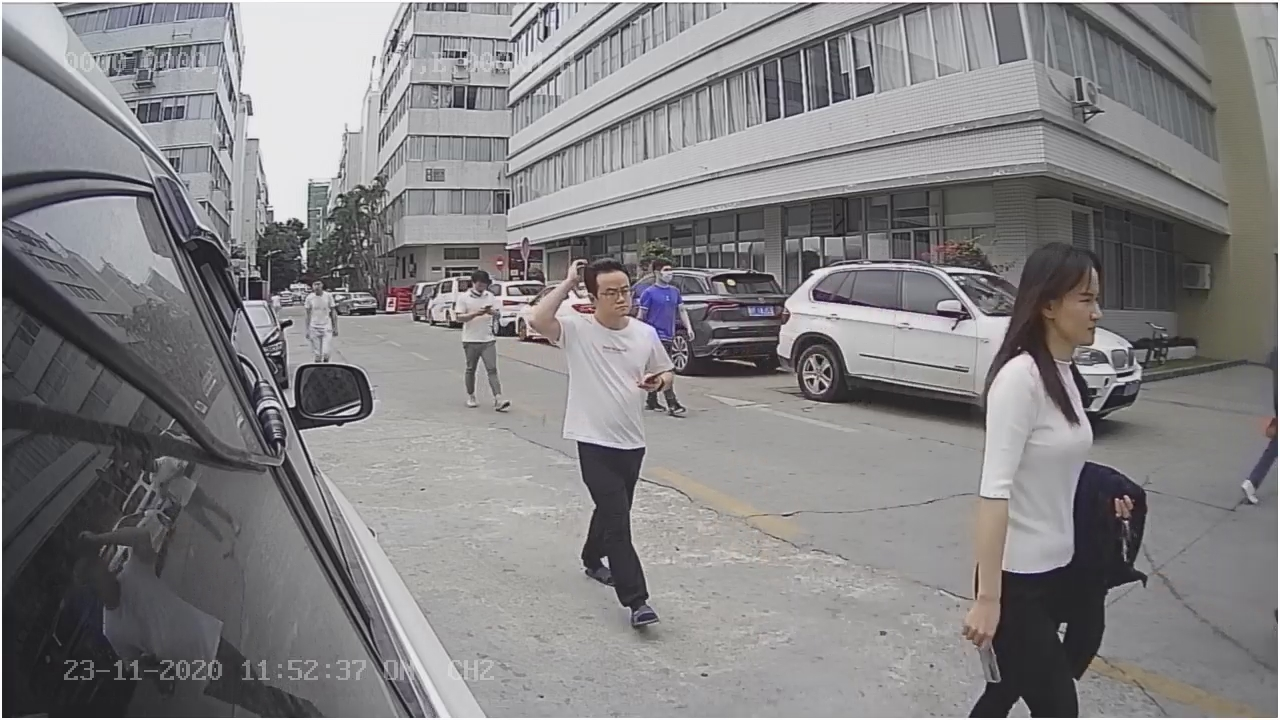person: (968, 224, 1111, 693), (535, 251, 664, 636)
